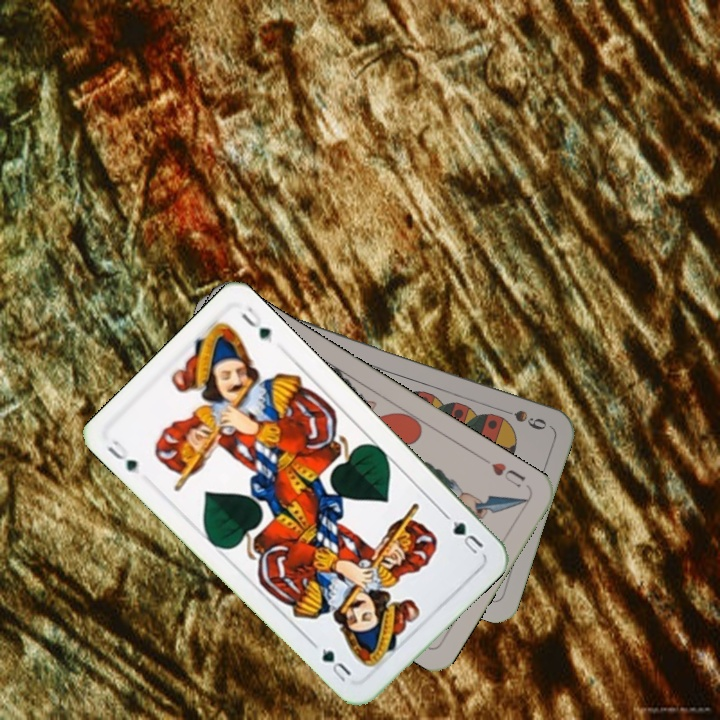GU: (103, 436, 143, 477), (448, 516, 486, 557)
HU: (487, 458, 528, 491)
S9: (493, 403, 550, 433)
